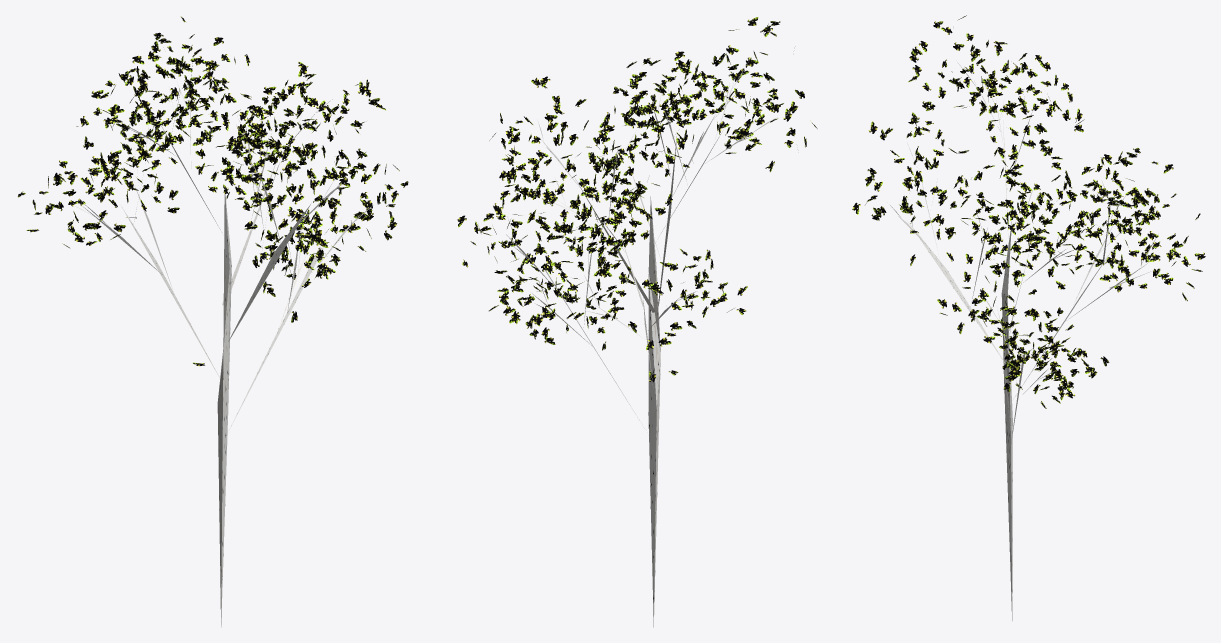
File: birch_pale_v03_LOD2.fbx
The picture shows the model from 3 angles, left to right: view 1: azimuth 30°, elevation 25°; view 2: azimuth 150°, elevation 25°; view 3: azimuth 270°, elevation 25°; orthographic projection. The views are drawn at different scales.
Parts seen in each view (by area): view 1: birch_pale_v03_LOD2; view 2: birch_pale_v03_LOD2; view 3: birch_pale_v03_LOD2.
Boxes of the visible parts, x1=… form: birch_pale_v03_LOD2: x1=18, y1=16, x2=408, y2=627; birch_pale_v03_LOD2: x1=457, y1=17, x2=817, y2=627; birch_pale_v03_LOD2: x1=852, y1=15, x2=1205, y2=620.
Bounding box in the file's own units: 1191 × 1139 × 2026.
2 materials, 2 textured.
